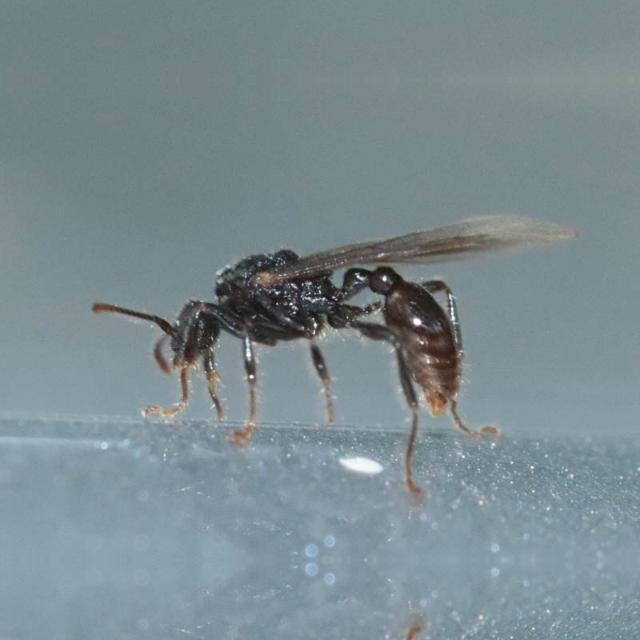Myrmica: (125, 182, 535, 508)
